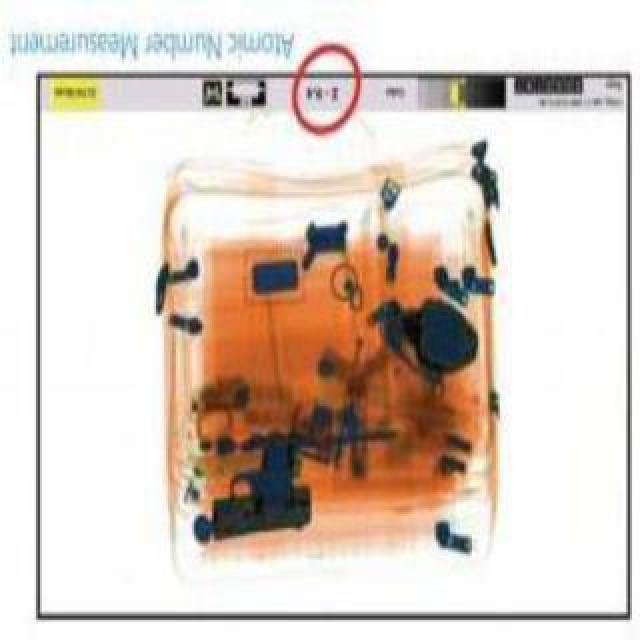gun: (188, 424, 312, 538)
